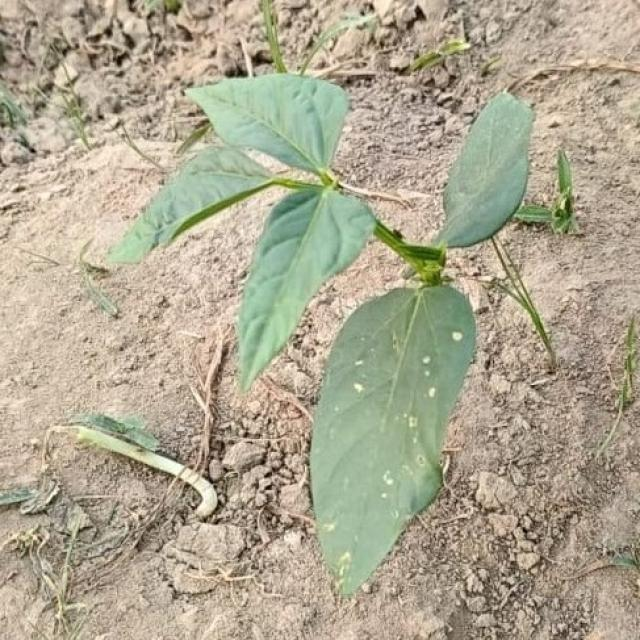plant: (110, 74, 534, 595)
